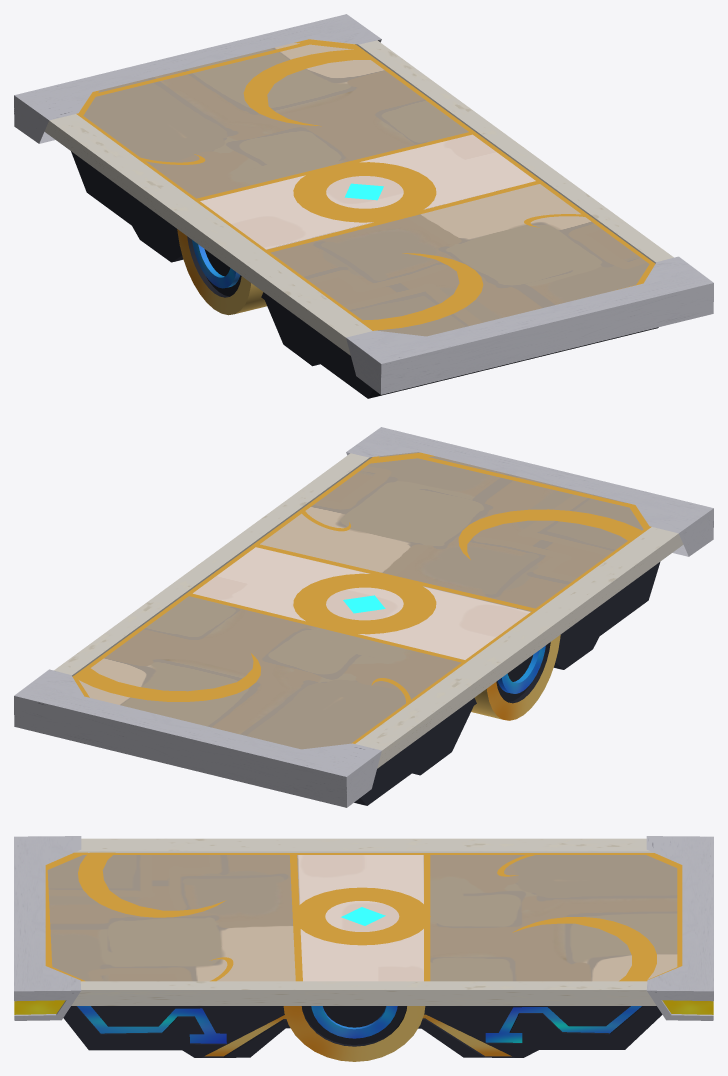
Rendered from SmallPlatforms_HighPolyTextured.fbx.
The picture shows the model from 3 angles, top to bottom: view 1: azimuth 30°, elevation 25°; view 2: azimuth 150°, elevation 25°; view 3: azimuth 270°, elevation 25°; orthographic projection. The views are drawn at different scales.
Visible parts, largest first — view 1: mainground, leftside, goldetails, rightside, platform, curve_big, curve_small; view 2: mainground, rightside, goldetails, leftside, platform, curve_big, curve_small; view 3: mainground, platform, goldetails, leftside, rightside, curve_big, curve_small, bluecrsytal.
Boxes of the visible parts, <box> form: mainground: <box>44,39,673,355</box>; leftside: <box>346,256,713,394</box>; goldetails: <box>76,39,655,330</box>; rightside: <box>14,14,381,143</box>; platform: <box>71,151,658,398</box>; curve_big: <box>177,229,266,315</box>; curve_small: <box>192,240,240,288</box>; mainground: <box>54,452,683,768</box>; rightside: <box>14,669,381,807</box>; goldetails: <box>72,452,651,743</box>; leftside: <box>346,427,713,556</box>; platform: <box>354,562,660,805</box>; curve_big: <box>471,635,560,720</box>; curve_small: <box>497,645,545,693</box>; mainground: <box>47,838,677,1005</box>; platform: <box>63,1006,662,1057</box>; goldetails: <box>45,852,682,981</box>; leftside: <box>14,836,81,1020</box>; rightside: <box>646,836,713,1020</box>; curve_big: <box>283,1006,425,1061</box>; curve_small: <box>311,1006,397,1038</box>; bluecrsytal: <box>341,907,385,925</box>.
Bounding box in the file's own units: 476 × 109 × 910.
